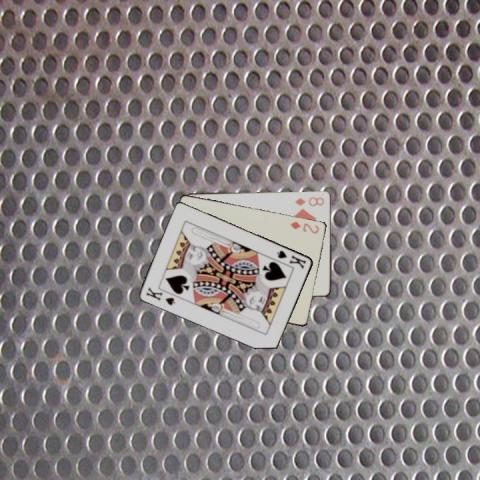2d: (287, 218, 321, 235)
8d: (293, 194, 325, 207)
Ks: (274, 247, 307, 270), (144, 284, 177, 307)
